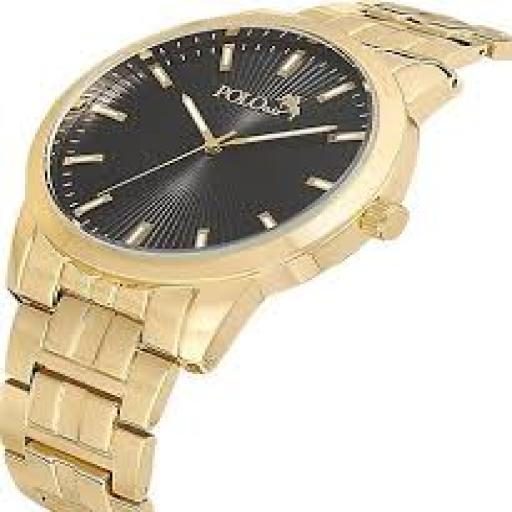KolSaati: (1, 0, 507, 511)
